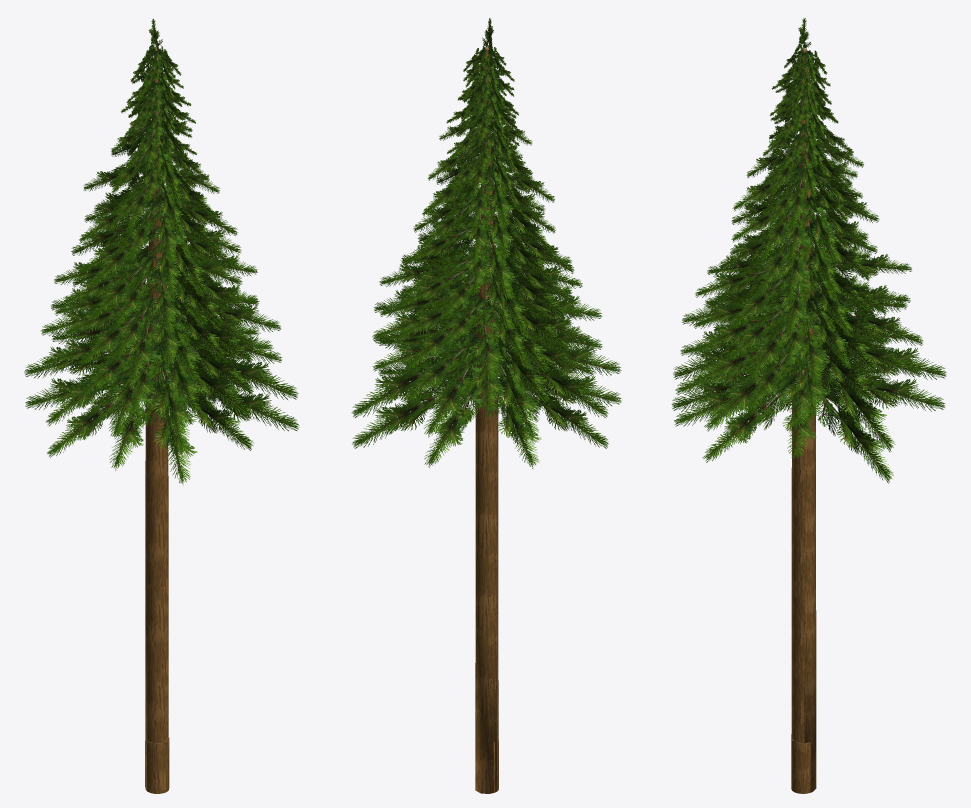
The model's file is BigTree 1.fbx.
3 views of the same model, side by side, from view 1: azimuth 30°, elevation 25°; view 2: azimuth 150°, elevation 25°; view 3: azimuth 270°, elevation 25° (orthographic).
Parts seen in each view (by area): view 1: CutTreeModel, BigTreeModel, TreeStumpModel; view 2: BigTreeModel, CutTreeModel; view 3: BigTreeModel, CutTreeModel, TreeStumpModel.
Boxes of the visible parts, bbox=[...] form: CutTreeModel: bbox=[25, 50, 299, 743]; BigTreeModel: bbox=[24, 18, 298, 790]; TreeStumpModel: bbox=[145, 737, 169, 793]; BigTreeModel: bbox=[351, 18, 621, 793]; CutTreeModel: bbox=[352, 49, 621, 740]; BigTreeModel: bbox=[673, 18, 946, 792]; CutTreeModel: bbox=[671, 59, 944, 743]; TreeStumpModel: bbox=[791, 739, 811, 793].
Size of the model in its own units: 2396 by 7209 by 2513.
